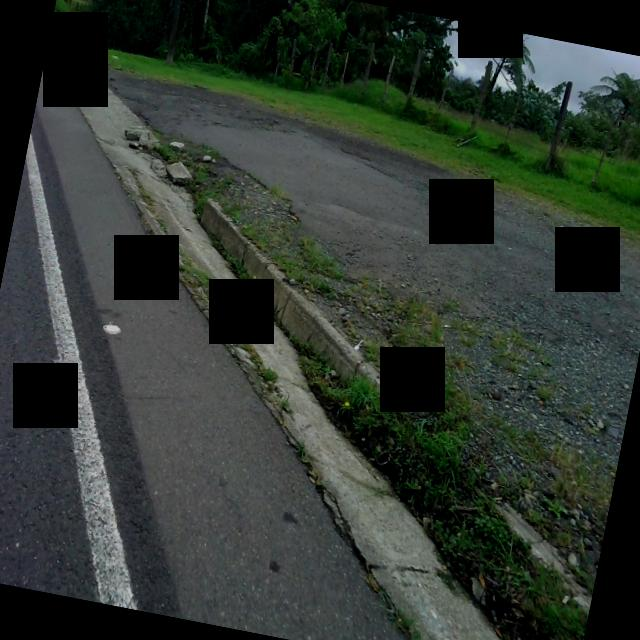DITCH: (0, 40, 640, 640), (0, 86, 640, 640), (0, 92, 640, 640)
